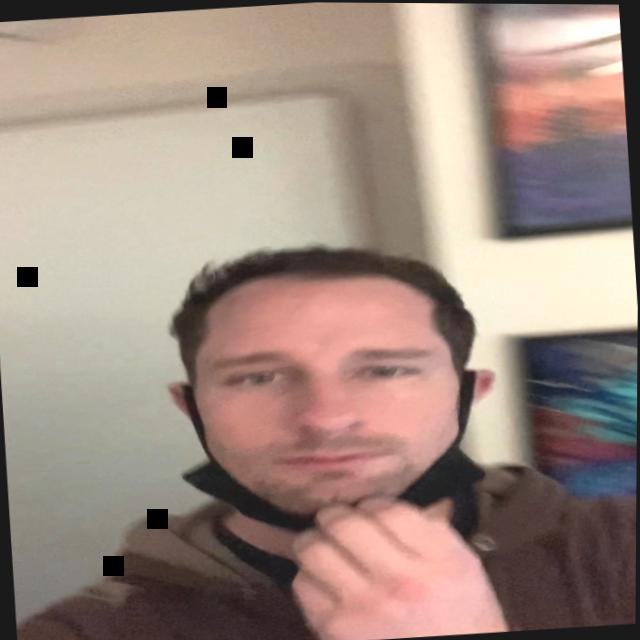NO-Mask: (162, 251, 492, 541)
